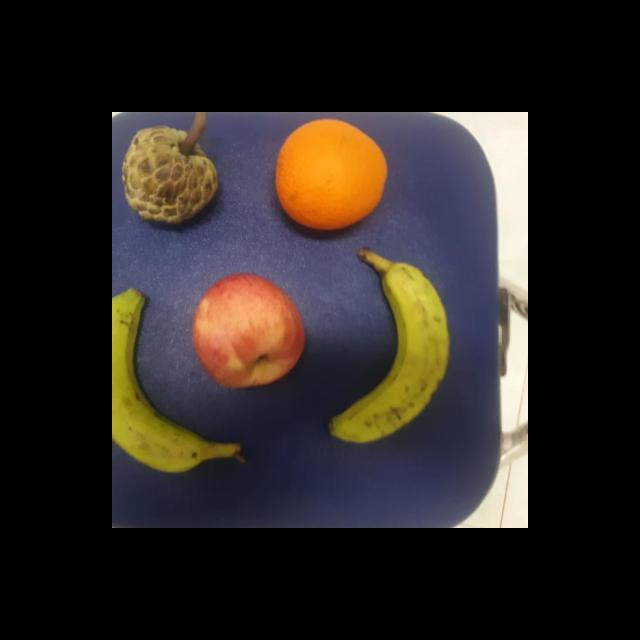Sakya fruit: (119, 123, 228, 232)
apple: (190, 268, 308, 396)
banana: (112, 285, 245, 477), (328, 248, 452, 446)
orange: (273, 116, 390, 232)
